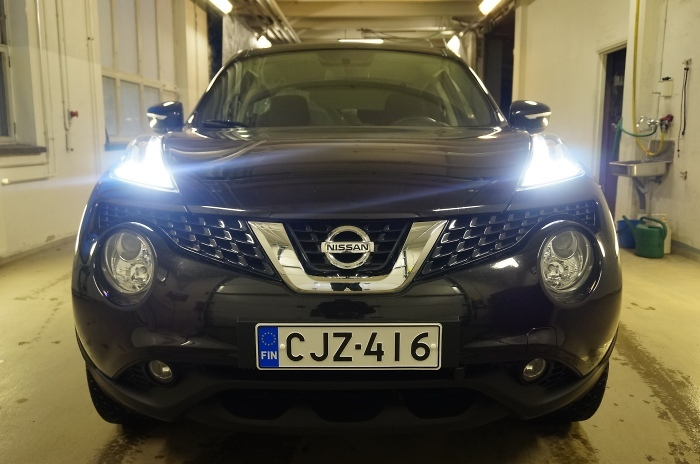license: (254, 322, 436, 370)
